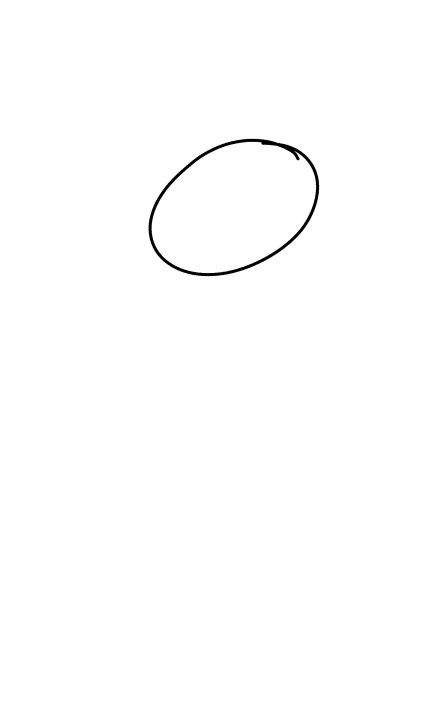Circle: (143, 132, 322, 280)
